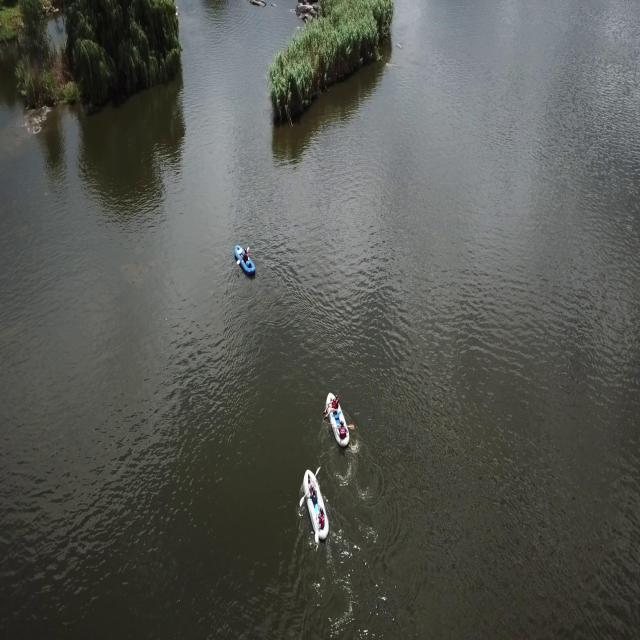kayak: (296, 468, 336, 544), (322, 390, 354, 457), (234, 237, 258, 283)
